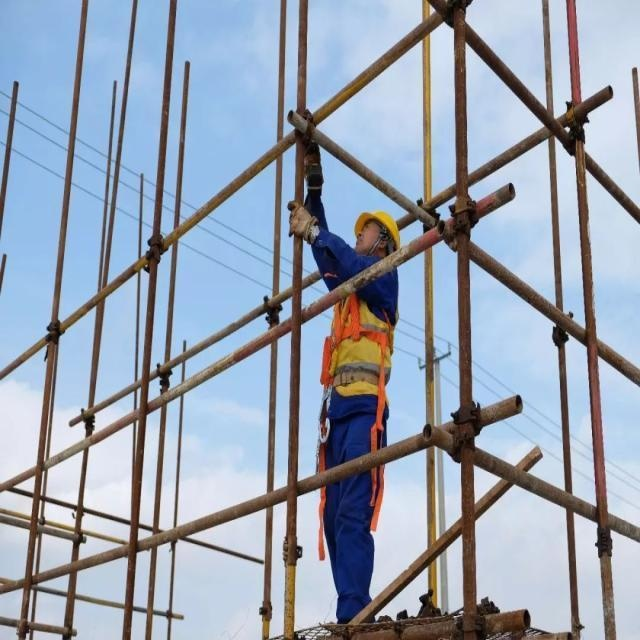Arnes_seguridad: (320, 256, 400, 362)
